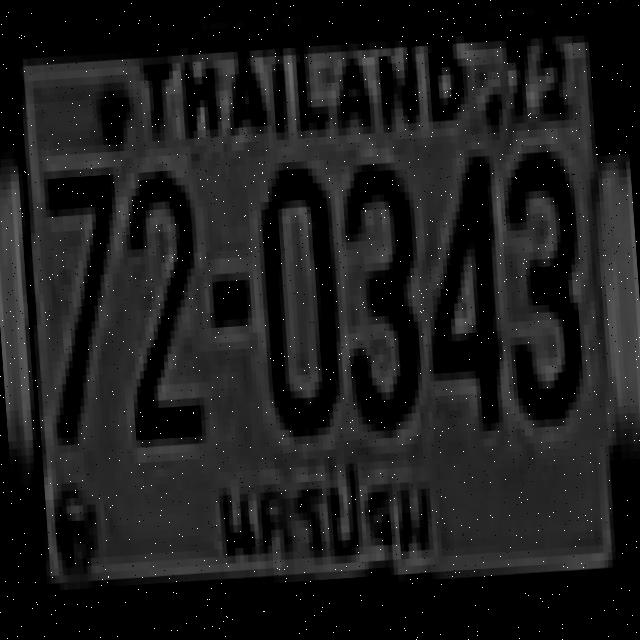0: (254, 160, 342, 430)
2: (115, 161, 204, 440)
3: (496, 142, 584, 414), (334, 154, 422, 425)
4: (414, 148, 503, 427)
7: (36, 162, 129, 442)
NakhonPathom: (208, 443, 442, 586)
